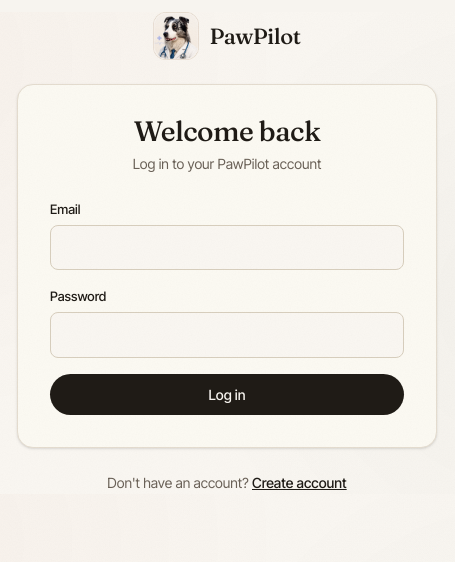
it: LoginPage › shows 'Incorrect email or password.' on LOGIN_BAD_CREDENTIALS
In the field labelled "Email": (227, 248) [50,225,404,270], type "a@b.co"
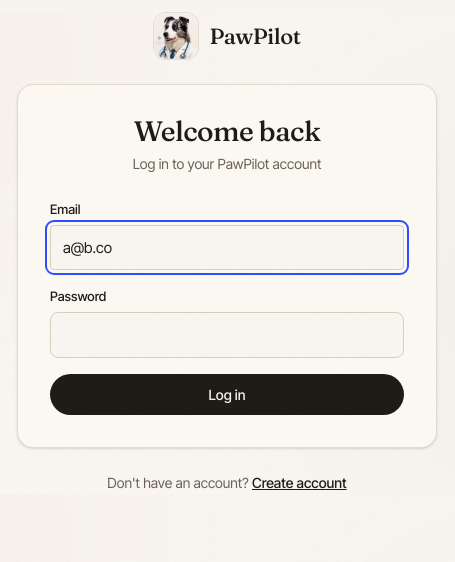
In the password field labelled "Password": (227, 335) [50,312,404,358], type "wrong-password"
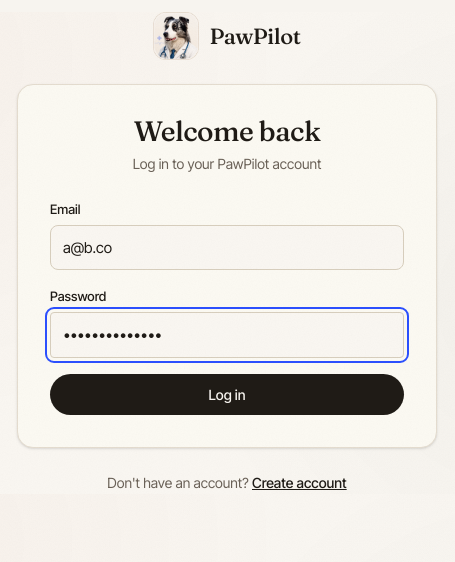
Click the button "Log in": (227, 395) [50,374,404,415]
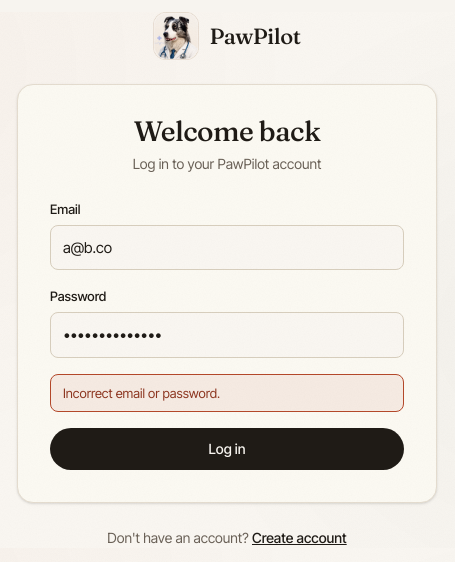
Now the text "Incorrect email or password." is shown, box [50,374,404,412]
